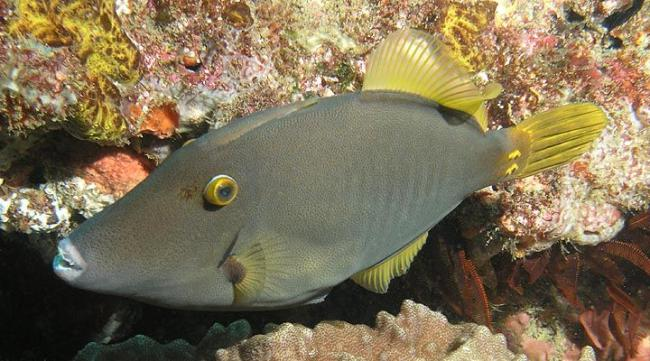fish: (53, 31, 606, 309)
